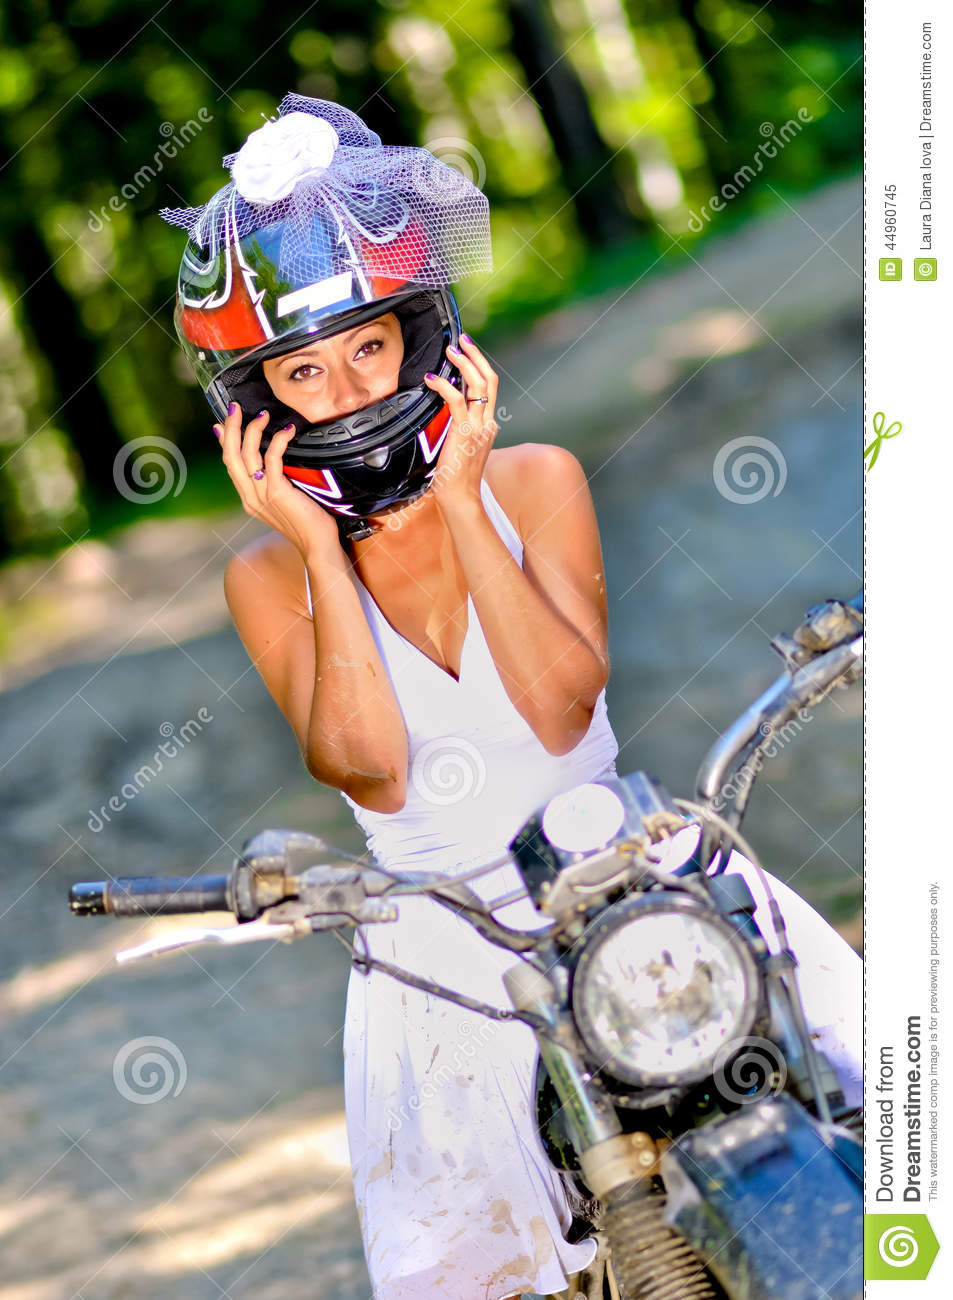helmet: (176, 199, 464, 523)
